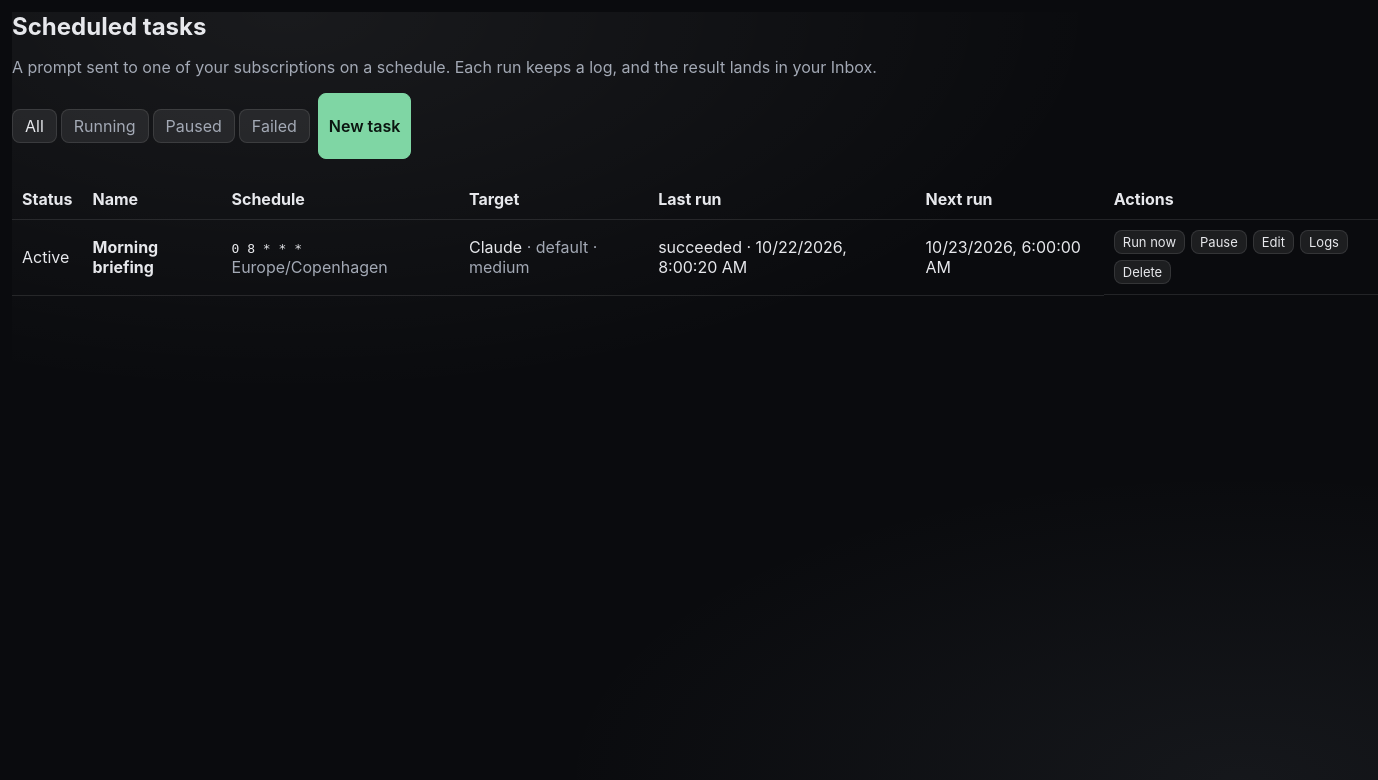
Test: editing and logs › shows the run log: status, answer, errors and log lines
The image size is (1378, 780).
What coordinates should you click on to do the following:
click the button "Logs"
I would click on:
 (1324, 242)
Its box is x1=1300 y1=230 x2=1348 y2=254.
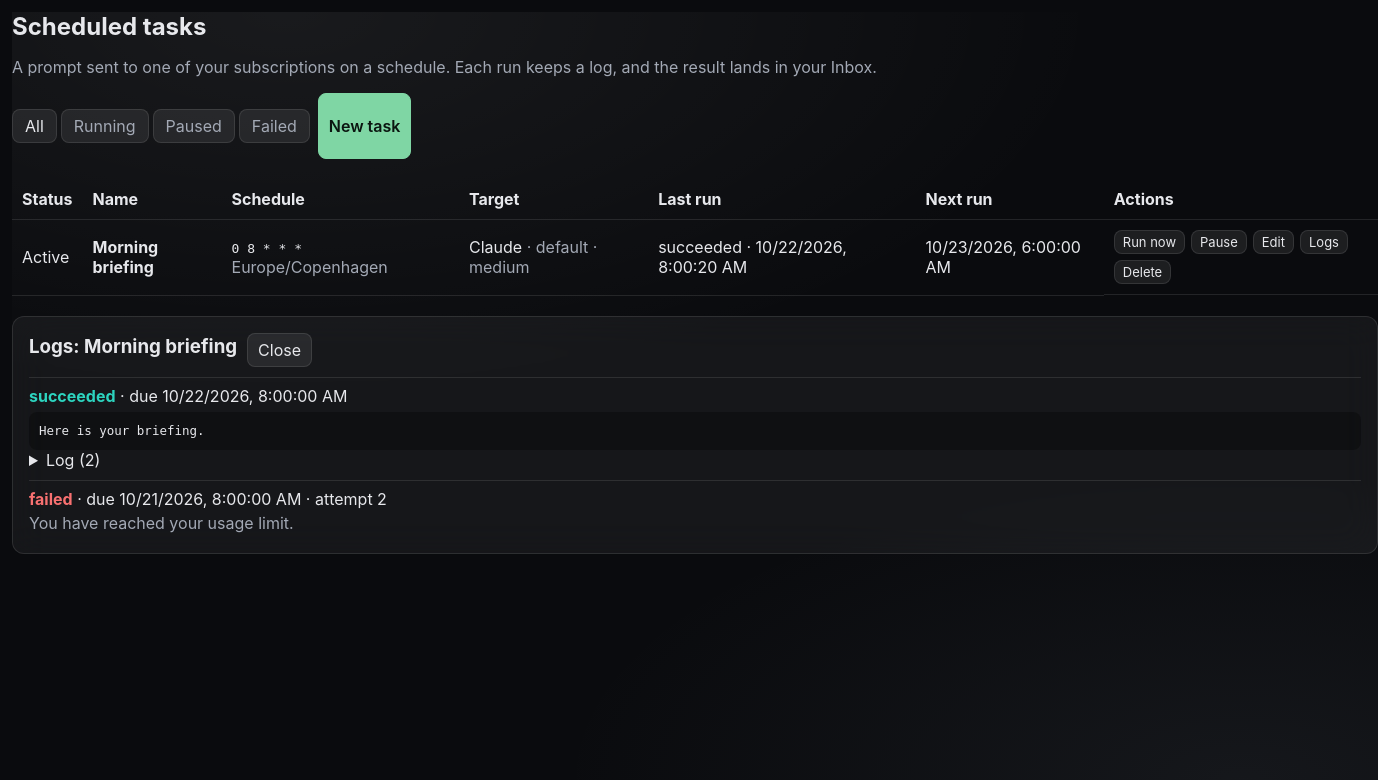
Result: the text "Here is your briefing." is shown at x1=29 y1=412 x2=1361 y2=450
Result: the text "succeeded" is shown at x1=29 y1=386 x2=116 y2=406
Result: the text "failed" is shown at x1=29 y1=489 x2=73 y2=509
